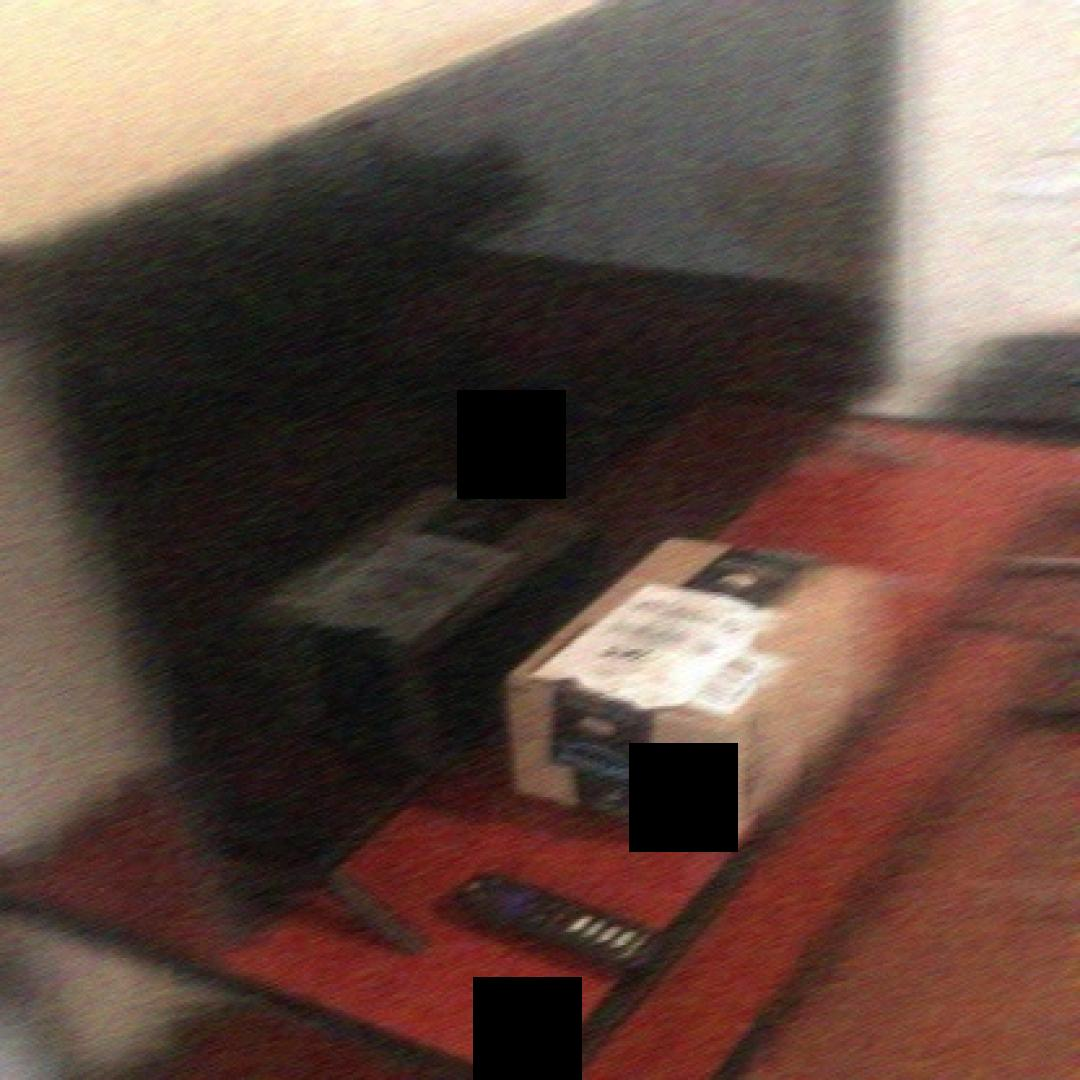package: (486, 522, 904, 860), (236, 470, 660, 779)
